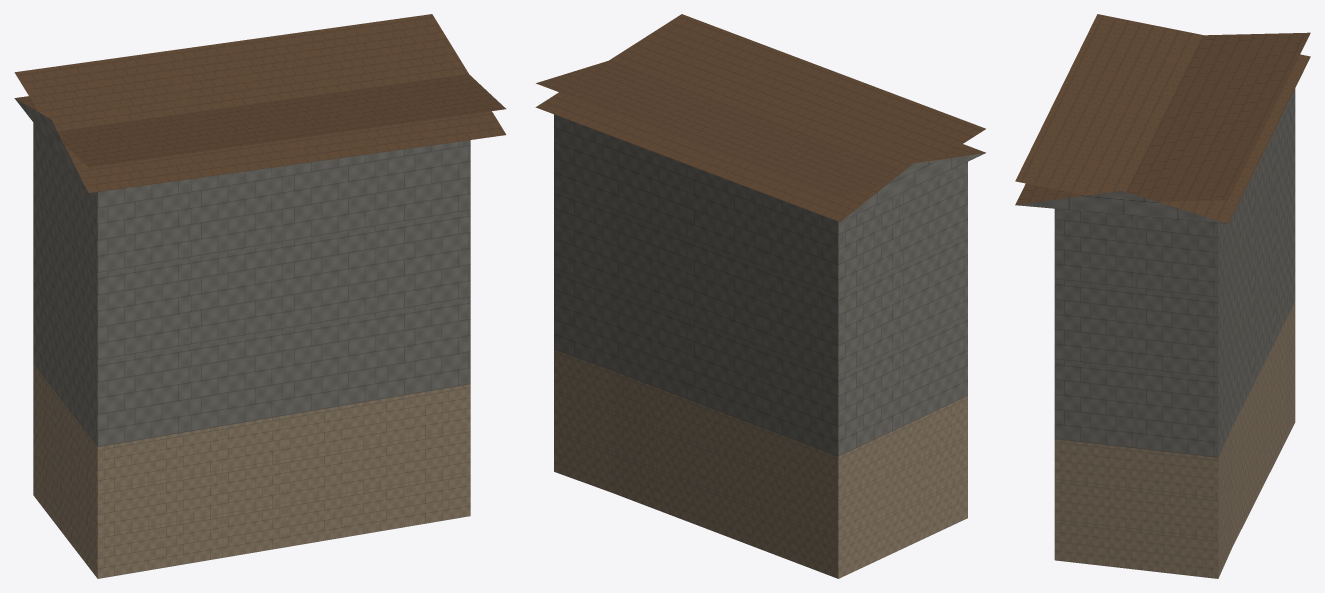
File: bld_c33_45_241.gltf
3 views of the same model, side by side, from view 1: azimuth 30°, elevation 25°; view 2: azimuth 150°, elevation 25°; view 3: azimuth 270°, elevation 25° (orthographic). The views are drawn at different scales.
Visible parts, largest first — view 1: bld_c33_45_241; view 2: bld_c33_45_241; view 3: bld_c33_45_241.
Boxes of the visible parts, box(x1,y1,x2,y2) form: bld_c33_45_241: box(14, 14, 506, 578); bld_c33_45_241: box(535, 14, 985, 578); bld_c33_45_241: box(1015, 14, 1310, 578).
Size of the model in its own units: 16.78 by 16.2 by 11.27.
4 materials, 4 textured.
